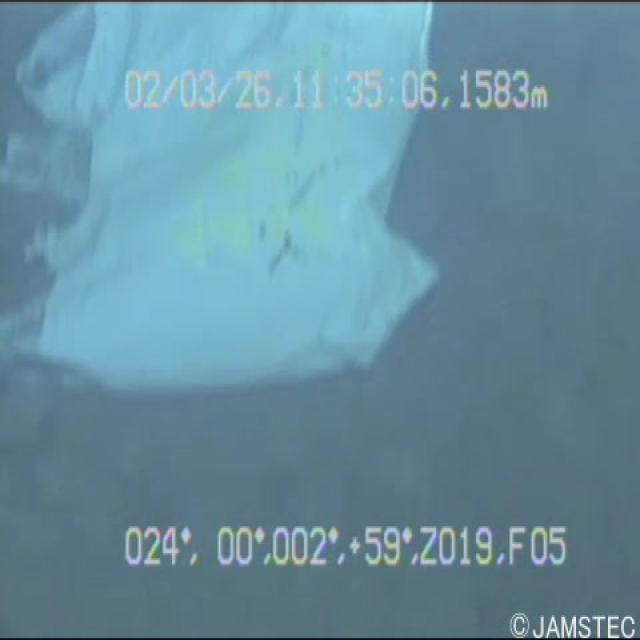plastic: (0, 0, 447, 414)
